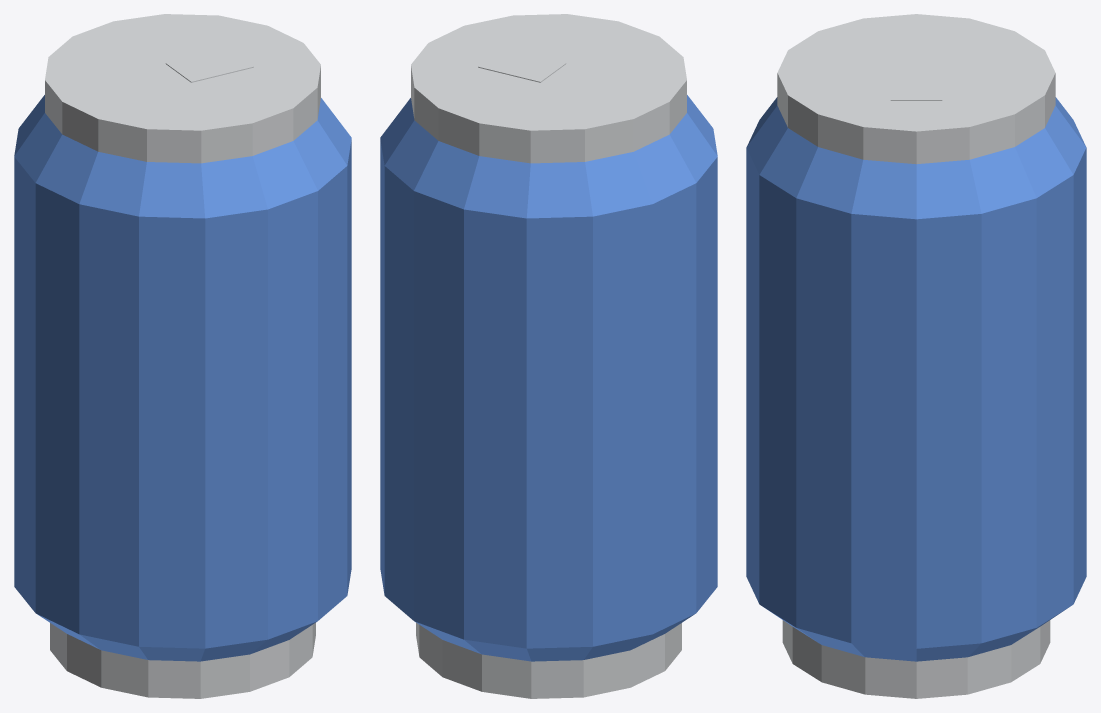
File: soda_can_blue.glb
3 views of the same model, side by side, from view 1: azimuth 30°, elevation 25°; view 2: azimuth 150°, elevation 25°; view 3: azimuth 270°, elevation 25° (orthographic).
Size of the model in its own units: 0.066 by 0.1222 by 0.066.
